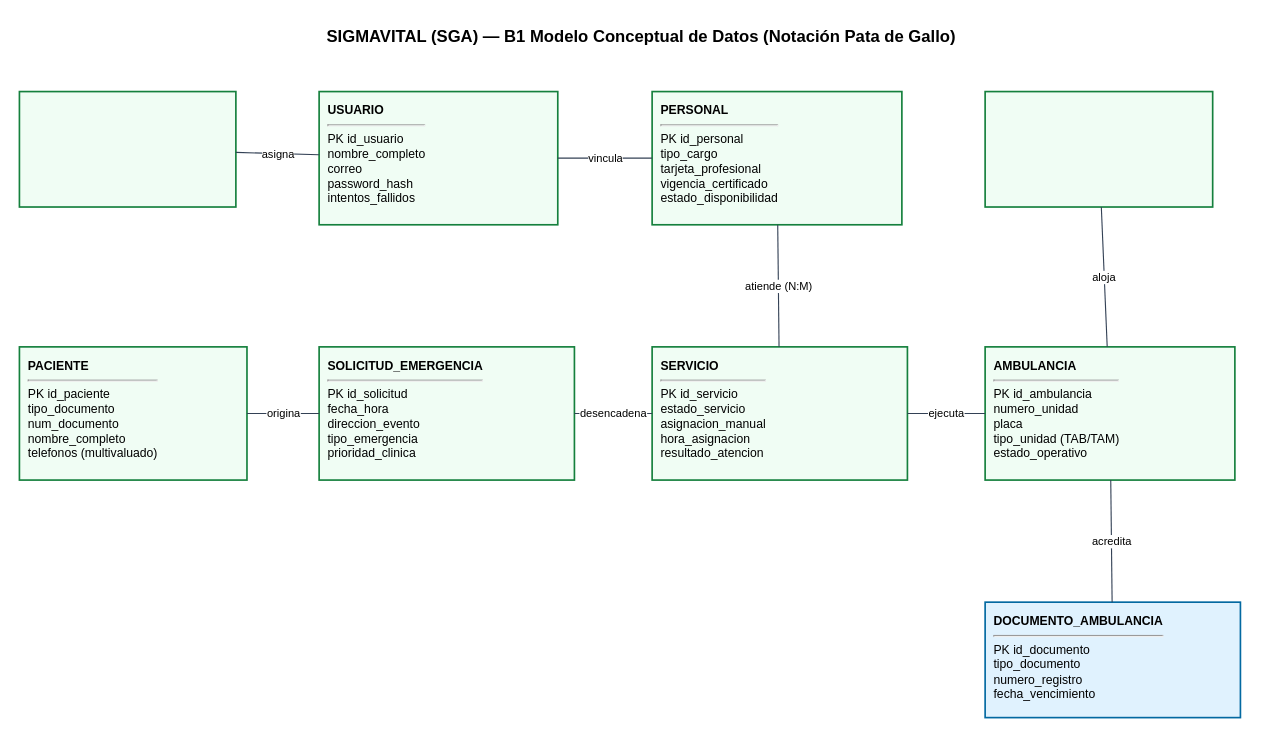
This 1261x737 diagram has some shape labels left out. Here are the shapes that lost their labels. From the top down, the centre of each, then its label:
pixel 127 148: ROL PK id_rol nombre_rol descripcion activo
pixel 1098 148: SEDE PK id_sede nombre_sede ciudad direccion
